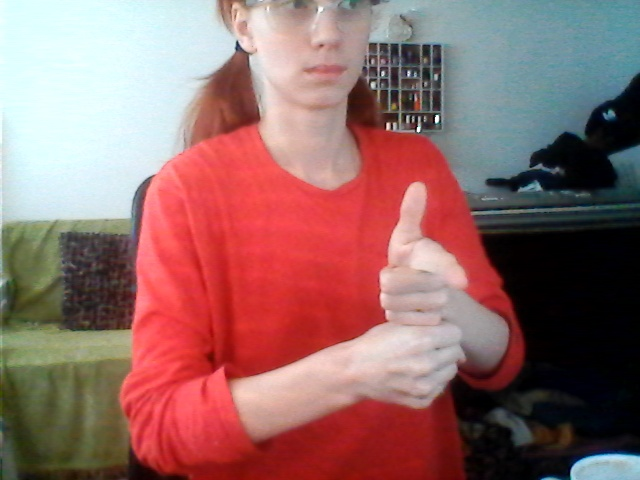kamera: (349, 180, 476, 424)
